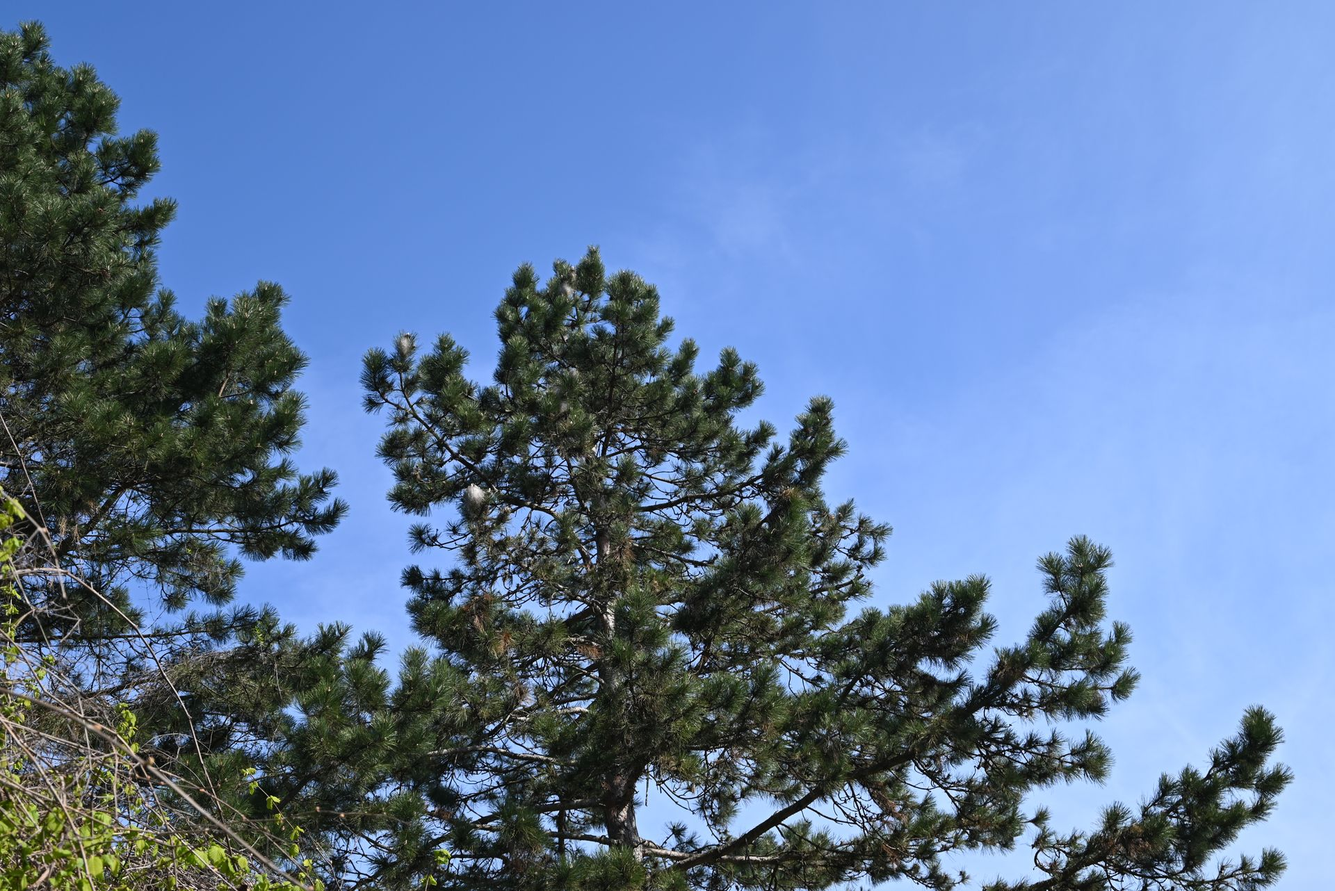thaumatopoea pityocampa jajno gnijezdo: (559, 273, 578, 308), (465, 482, 488, 507), (395, 335, 415, 361)
